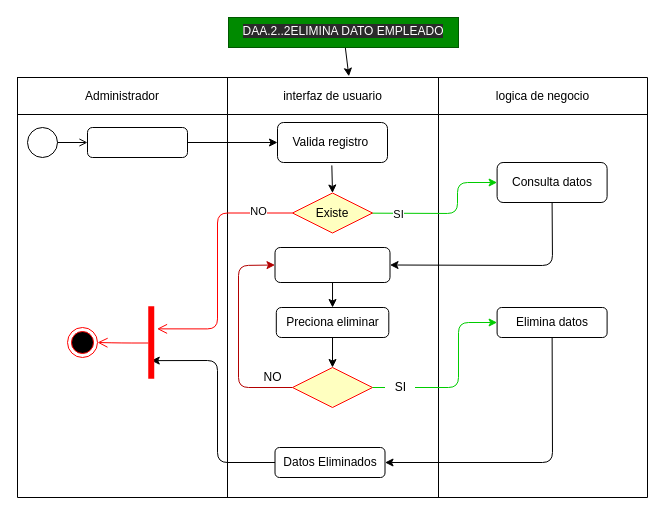
Some shapes in this 665 by 515 pixel diagram are drawn without their labels. Here are the shapes that lost their labels. From the top down, the centre of each, then its label:
At (x=137, y=142): "Ingresa Empleado".
At (x=332, y=264): "Muestra datos".
At (x=332, y=387): "Confirma".
